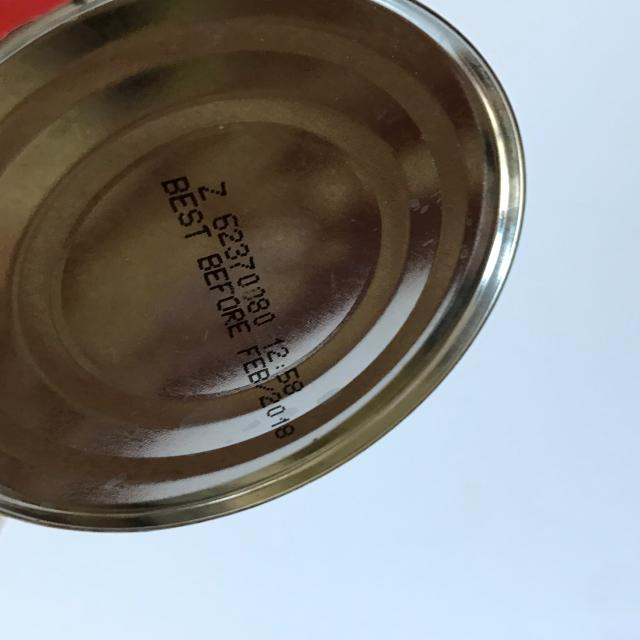metal: (1, 0, 527, 533)
